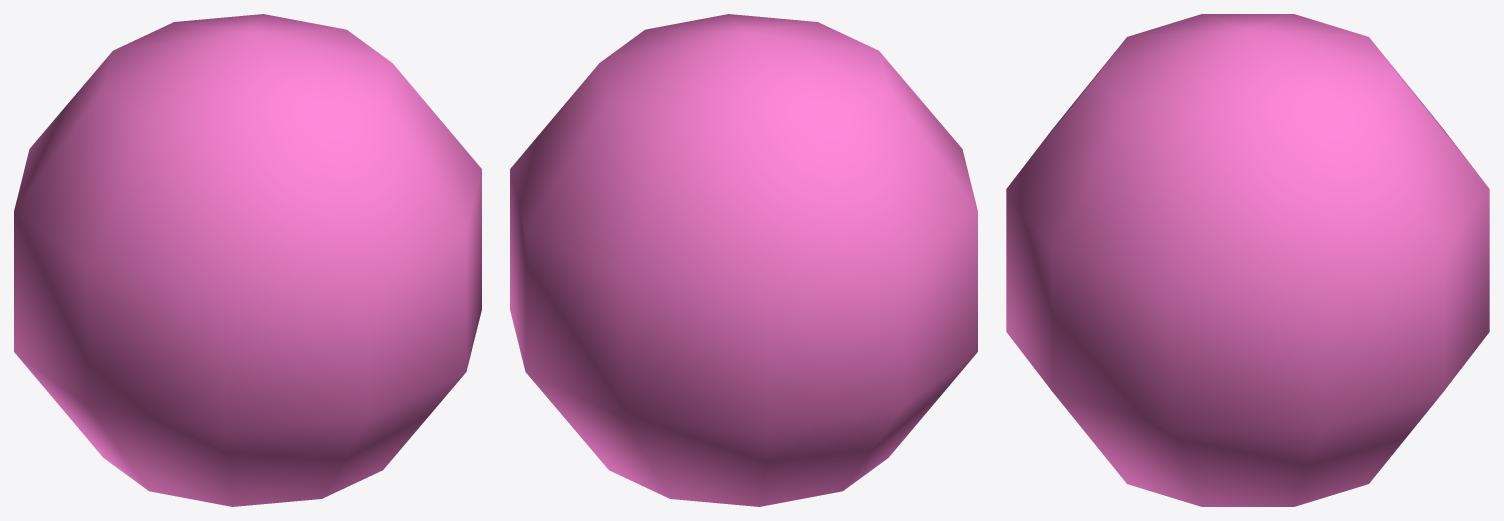
The model's file is SM_Keeper_OverlordEcho_Star15.fbx.
The picture shows the model from 3 angles, left to right: view 1: azimuth 30°, elevation 25°; view 2: azimuth 150°, elevation 25°; view 3: azimuth 270°, elevation 25°; orthographic projection.
Parts seen in each view (by area): view 1: SM_Keeper_OverlordEcho_Star15; view 2: SM_Keeper_OverlordEcho_Star15; view 3: SM_Keeper_OverlordEcho_Star15.
Part boxes in pixels (bbox=[...]): SM_Keeper_OverlordEcho_Star15: bbox=[14, 14, 481, 506]; SM_Keeper_OverlordEcho_Star15: bbox=[510, 14, 977, 506]; SM_Keeper_OverlordEcho_Star15: bbox=[1006, 14, 1489, 506].
Bounding box in the file's own units: 1.81 × 2 × 1.9.
